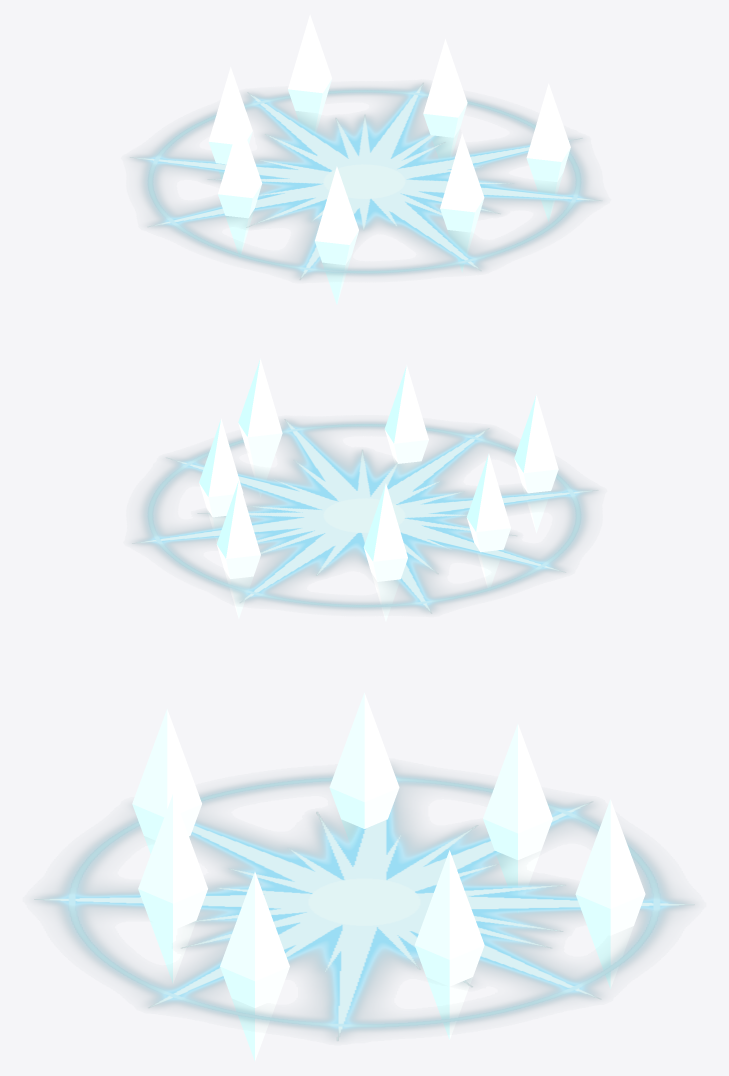
Rendered from fx_frost_t2.glb.
The picture shows the model from 3 angles, top to bottom: view 1: azimuth 30°, elevation 25°; view 2: azimuth 150°, elevation 25°; view 3: azimuth 270°, elevation 25°; orthographic projection. The views are drawn at different scales.
Visible parts, largest first — view 1: fx_frost_burst, fx_frost_spike; view 2: fx_frost_burst, fx_frost_spike; view 3: fx_frost_burst, fx_frost_spike.
Boxes of the visible parts, x1,y1,x2,y2 form: fx_frost_burst: (129,82,602,280); fx_frost_spike: (208,14,570,304); fx_frost_burst: (132,419,598,613); fx_frost_spike: (199,358,558,621); fx_frost_burst: (34,765,694,1041); fx_frost_spike: (132,692,645,1060).
Size of the model in its own units: 1 by 0.3 by 1.
2 materials, 1 textured.
